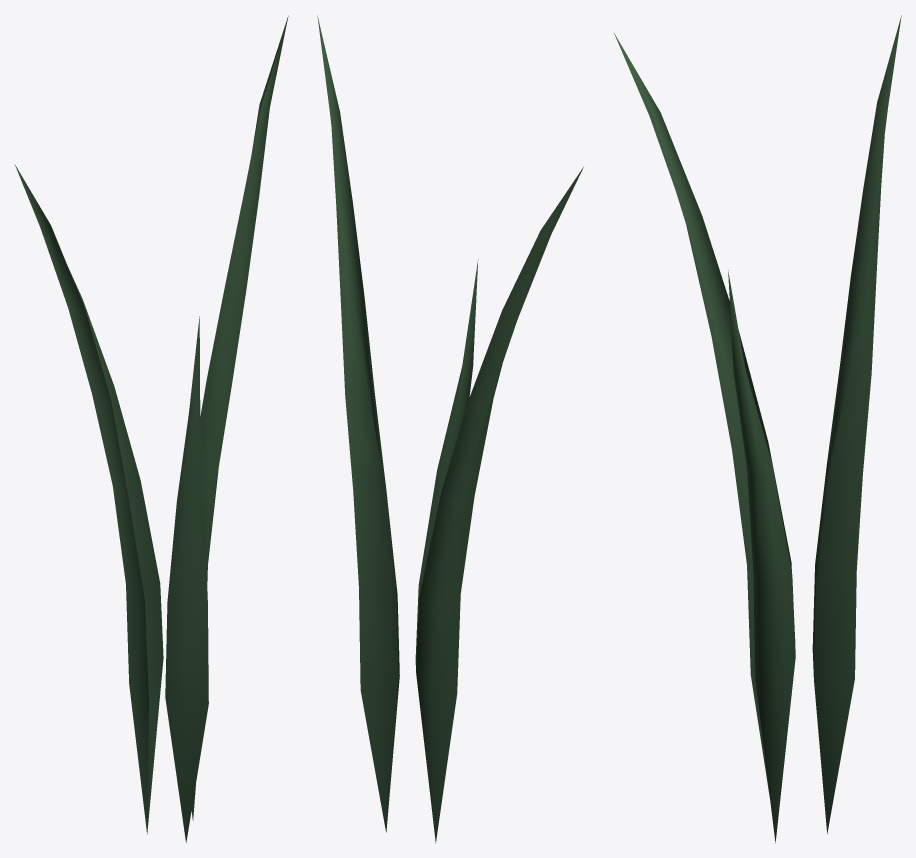
Rendered from trees-grasses-grass-blades_v13.glb.
3 views of the same model, side by side, from view 1: azimuth 30°, elevation 25°; view 2: azimuth 150°, elevation 25°; view 3: azimuth 330°, elevation 25° (orthographic). The views are drawn at different scales.
Parts seen in each view (by area): view 1: Grass Blades_v13; view 2: Grass Blades_v13; view 3: Grass Blades_v13.
Boxes of the visible parts, x1,y1,x2,y2 form: Grass Blades_v13: (14,15,288,843); Grass Blades_v13: (317,15,583,843); Grass Blades_v13: (614,15,901,843).
Size of the model in its own units: 0.1072 by 0.3 by 0.0391.
